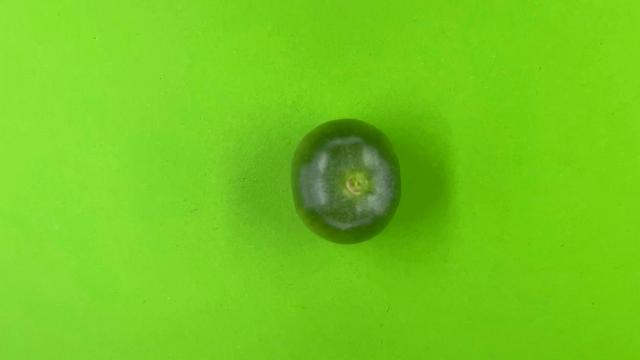Fruit Maturation: (289, 118, 402, 246)
